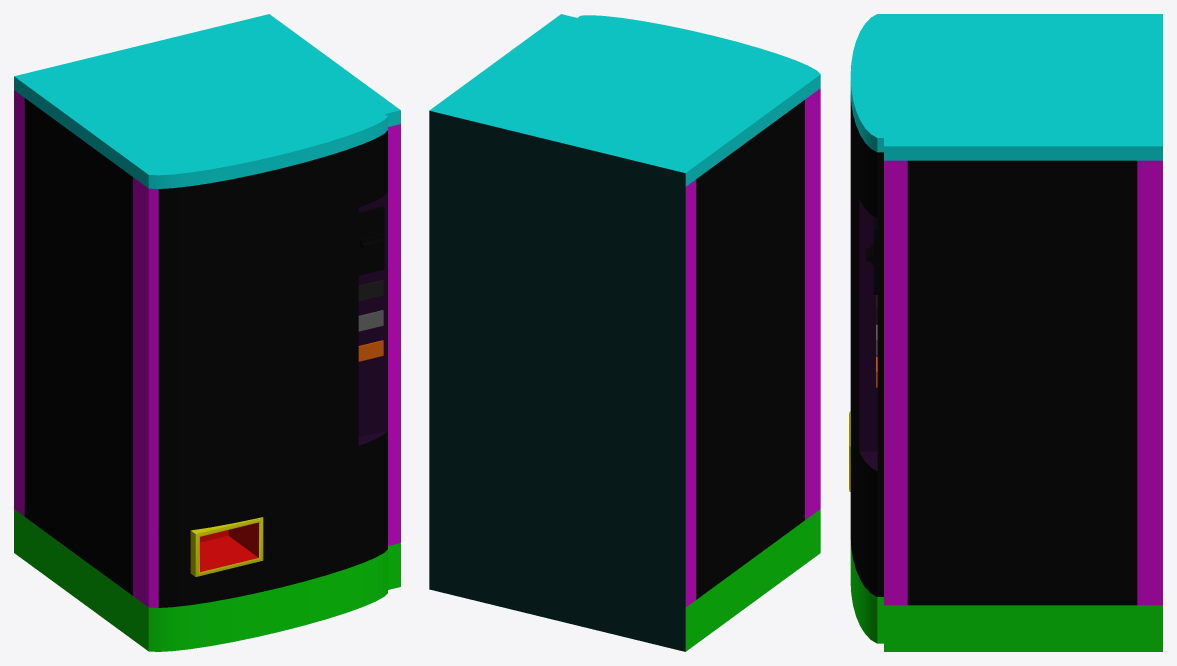
Rendered from SM_vendingmachine_soda.fbx.
The picture shows the model from 3 angles, left to right: view 1: azimuth 30°, elevation 25°; view 2: azimuth 150°, elevation 25°; view 3: azimuth 270°, elevation 25°; orthographic projection. The views are drawn at different scales.
Visible parts, largest first — view 1: SM_VendingMachine_Cola; view 2: SM_VendingMachine_Cola; view 3: SM_VendingMachine_Cola.
Boxes of the visible parts, box(x1,y1,x2,y2) form: SM_VendingMachine_Cola: box(14, 14, 400, 651); SM_VendingMachine_Cola: box(429, 14, 820, 651); SM_VendingMachine_Cola: box(849, 14, 1162, 651).
Bounding box in the file's own units: 112 × 200 × 113.
